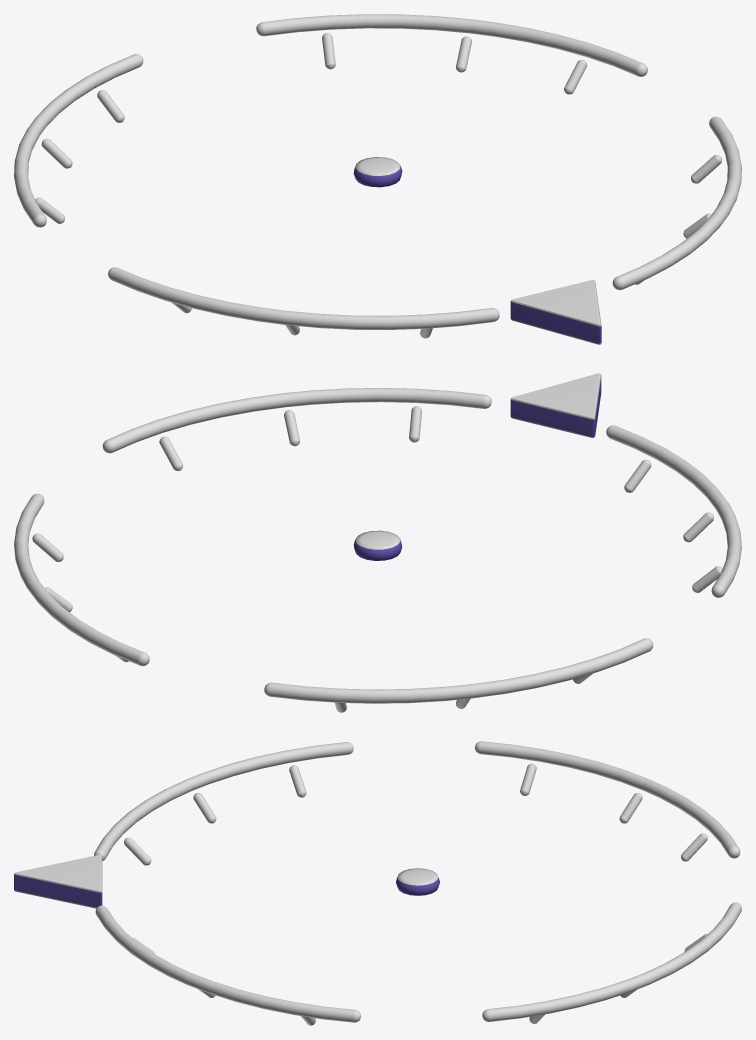
File: geospatial_marker.fbx
3 renders of one model, top to bottom at view 1: azimuth 30°, elevation 25°; view 2: azimuth 150°, elevation 25°; view 3: azimuth 270°, elevation 25°, orthographic. The views are drawn at different scales.
Parts seen in each view (by area): view 1: Marker; view 2: Marker; view 3: Marker.
Boxes of the visible parts, x1=… form: Marker: x1=14, y1=14, x2=741, y2=344; Marker: x1=14, y1=373, x2=741, y2=712; Marker: x1=14, y1=741, x2=741, y2=1025.
Bounding box in the file's own units: 200 × 12.96 × 225.
